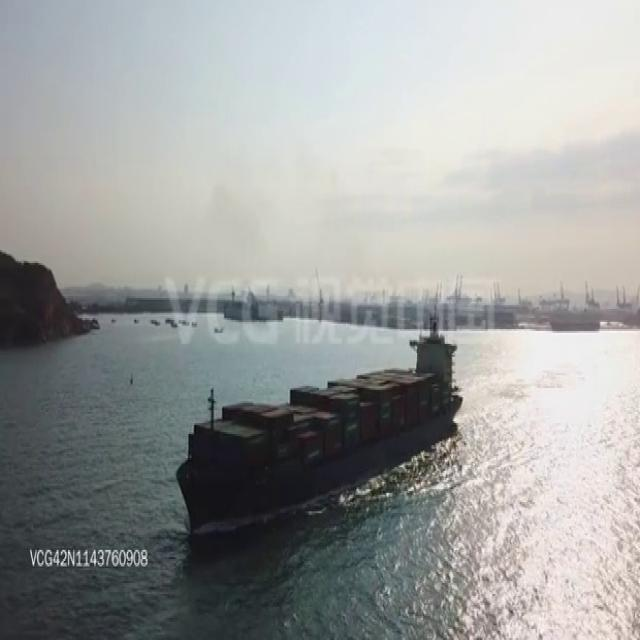cargoship: (176, 308, 463, 536)
